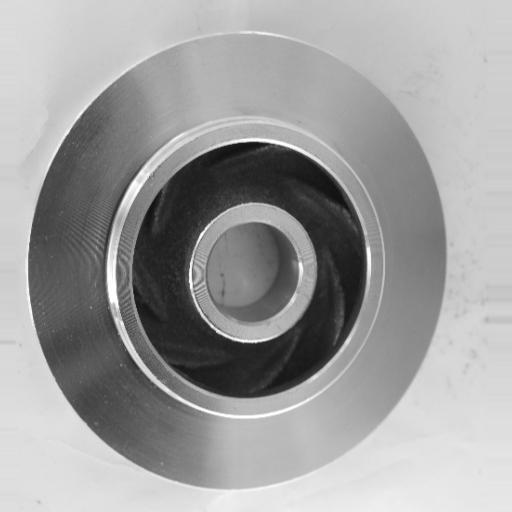polished_casting: (25, 32, 449, 492)
